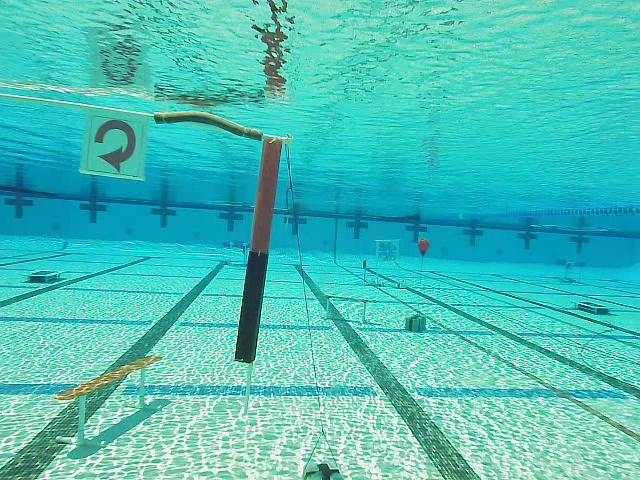buoy: (417, 239, 430, 257)
dropper: (25, 268, 61, 283), (577, 299, 609, 315)
gate_leg_r: (234, 135, 288, 364)
gate_red: (83, 112, 147, 179)
torpedo: (377, 240, 398, 263)
